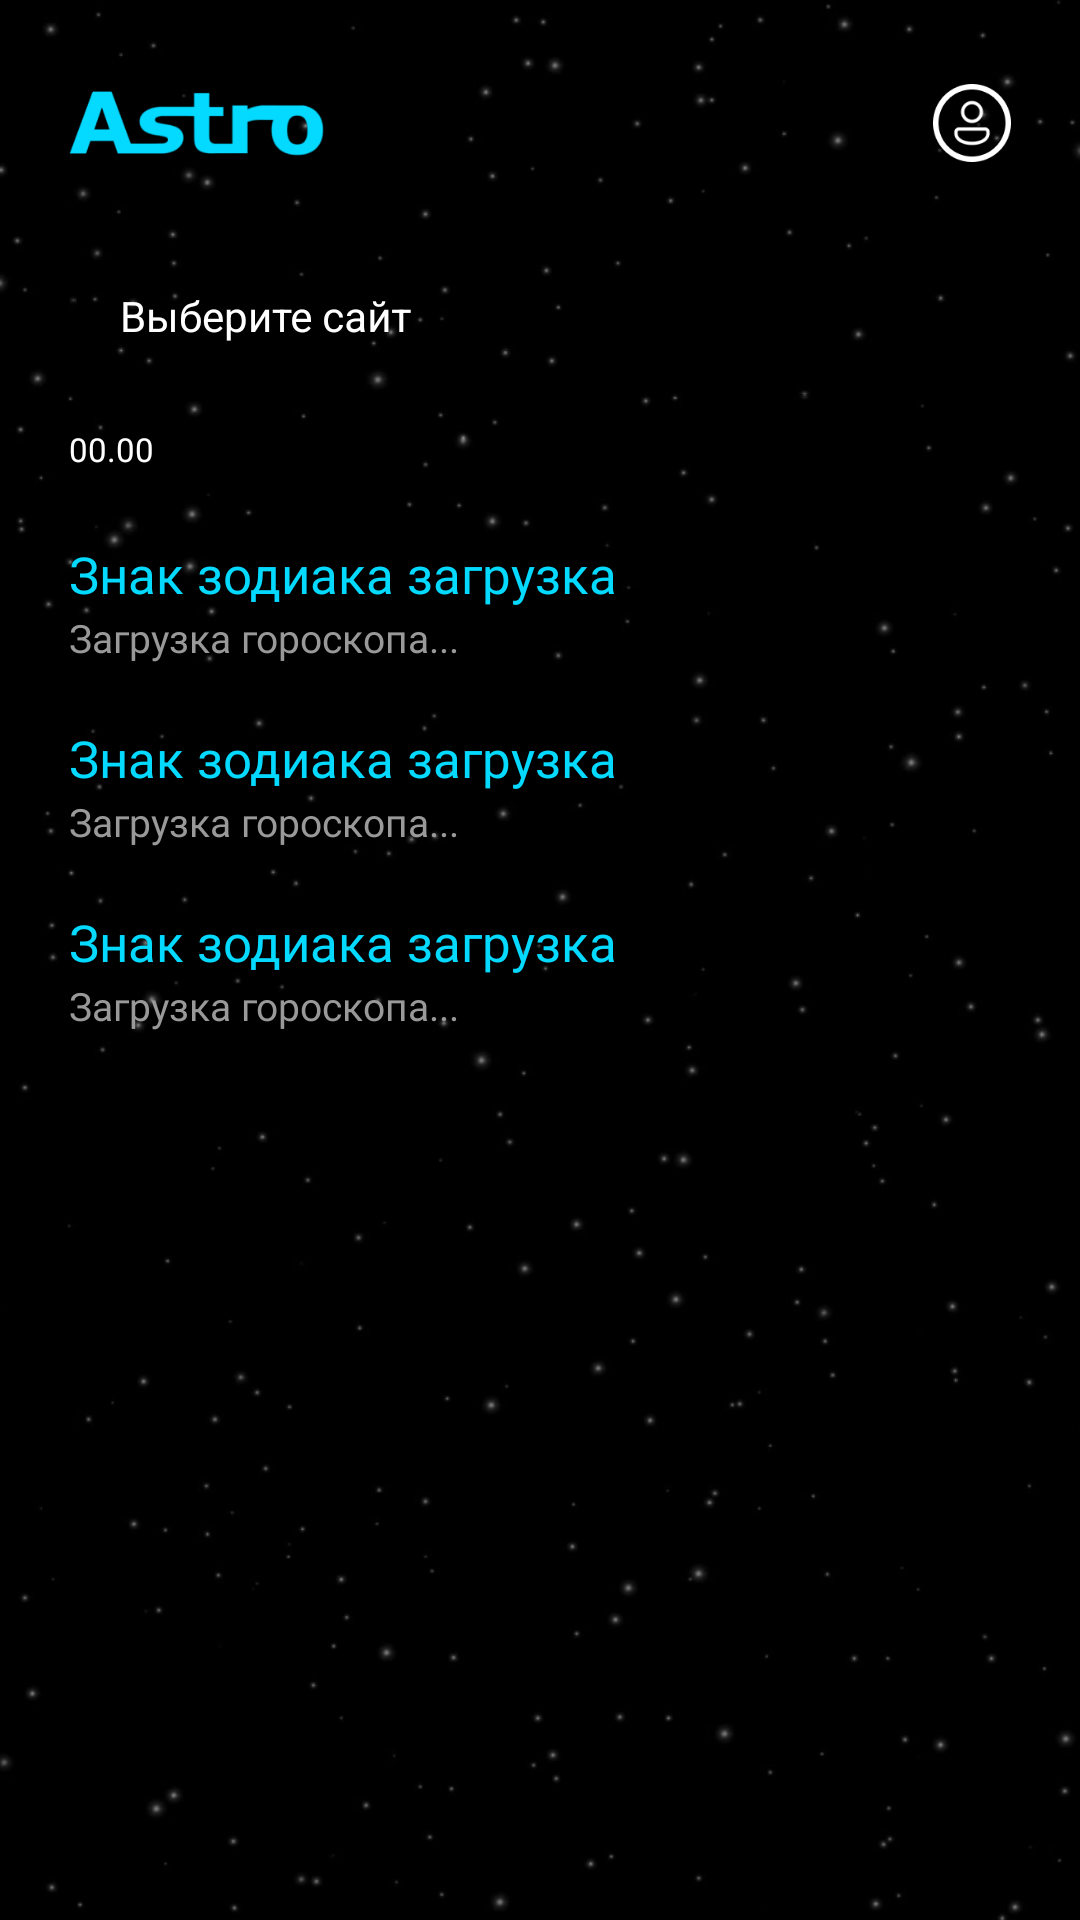

Icons on this 1080px×1920px Android screen, each with its box as {"x1": x1, "y1": y1, "x2": x2, "y2": y2}:
user: {"x1": 933, "y1": 84, "x2": 1011, "y2": 162}
